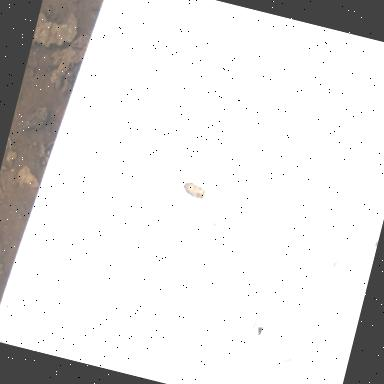pbw: (180, 180, 208, 201)
